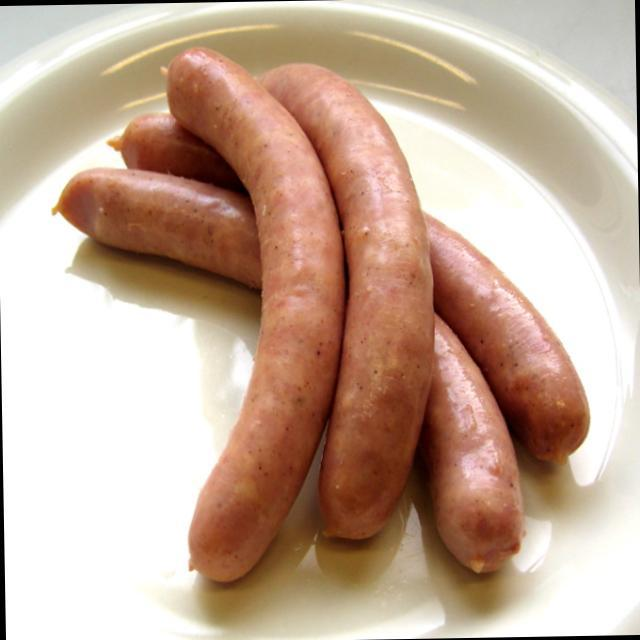Sausage: (43, 26, 584, 598)
